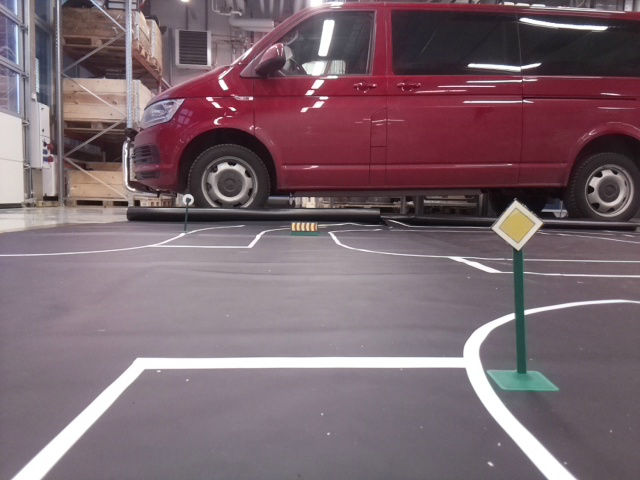Priority: (491, 199, 542, 249)
